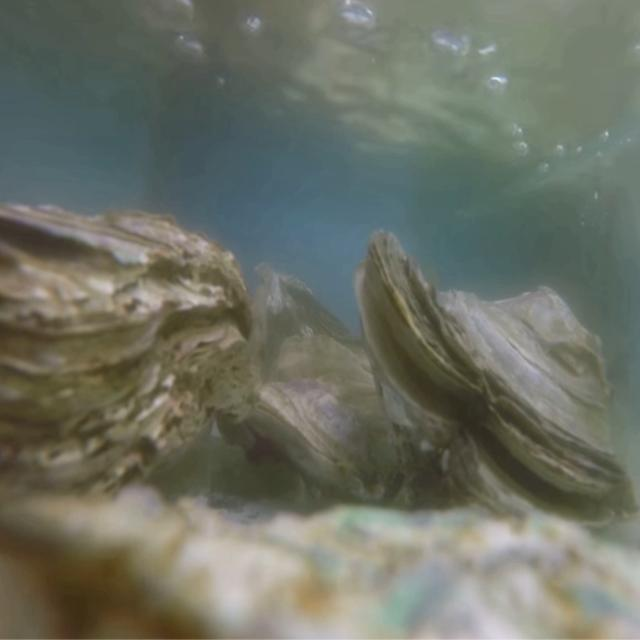Oyster-Closed: (0, 202, 253, 530), (257, 337, 413, 510)
Oyster-Indeterminate: (0, 486, 640, 640), (254, 255, 370, 372)
Oyster-Open: (354, 230, 640, 540)
